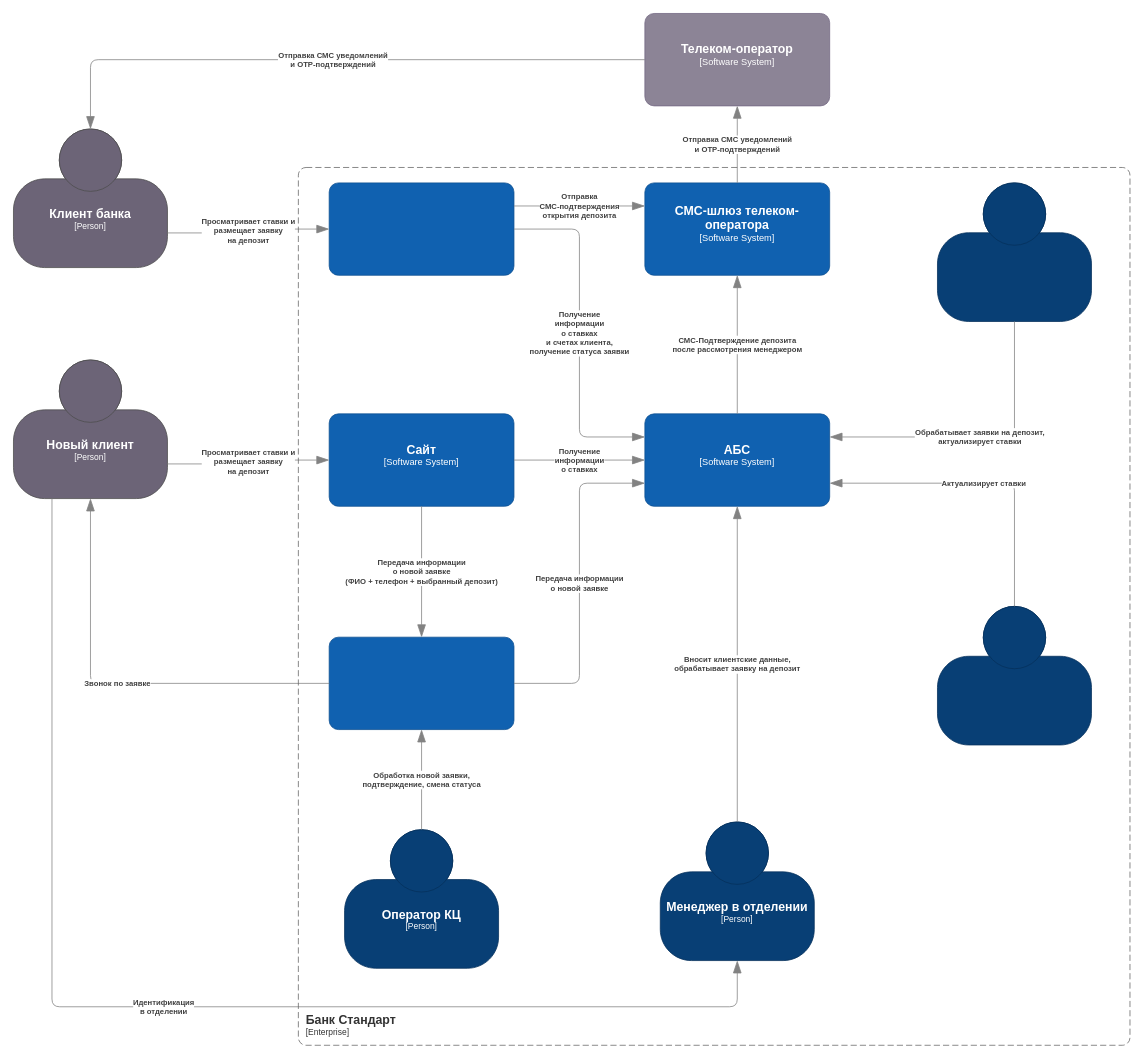
This 1143x1059 diagram has some shape labels left out. The box of each missing label's shape, as (x1, y1, x2, y2) in pixels:
Депозитный менеджер [Person]: (937, 182, 1091, 321)
Интернет-банк [Software System]: (328, 182, 514, 275)
Кол-центр Банка [Software System]: (328, 636, 514, 730)
Кредитный менеджер [Person]: (937, 606, 1091, 745)
